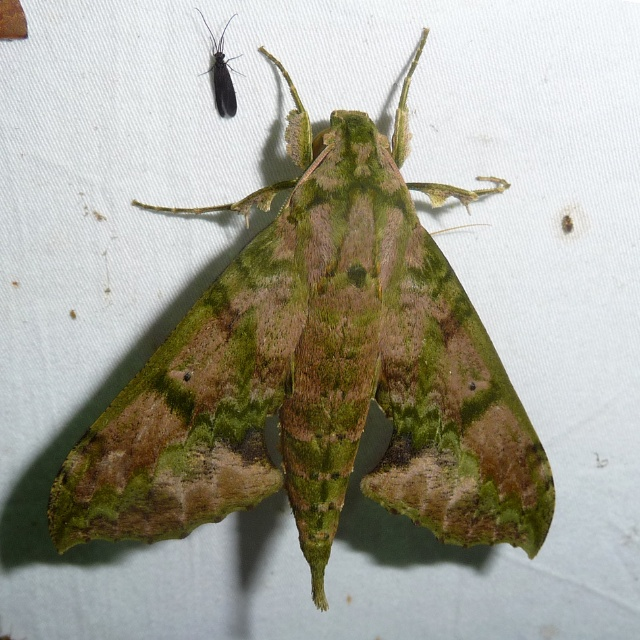Moths and butterflies: (46, 22, 554, 612)
